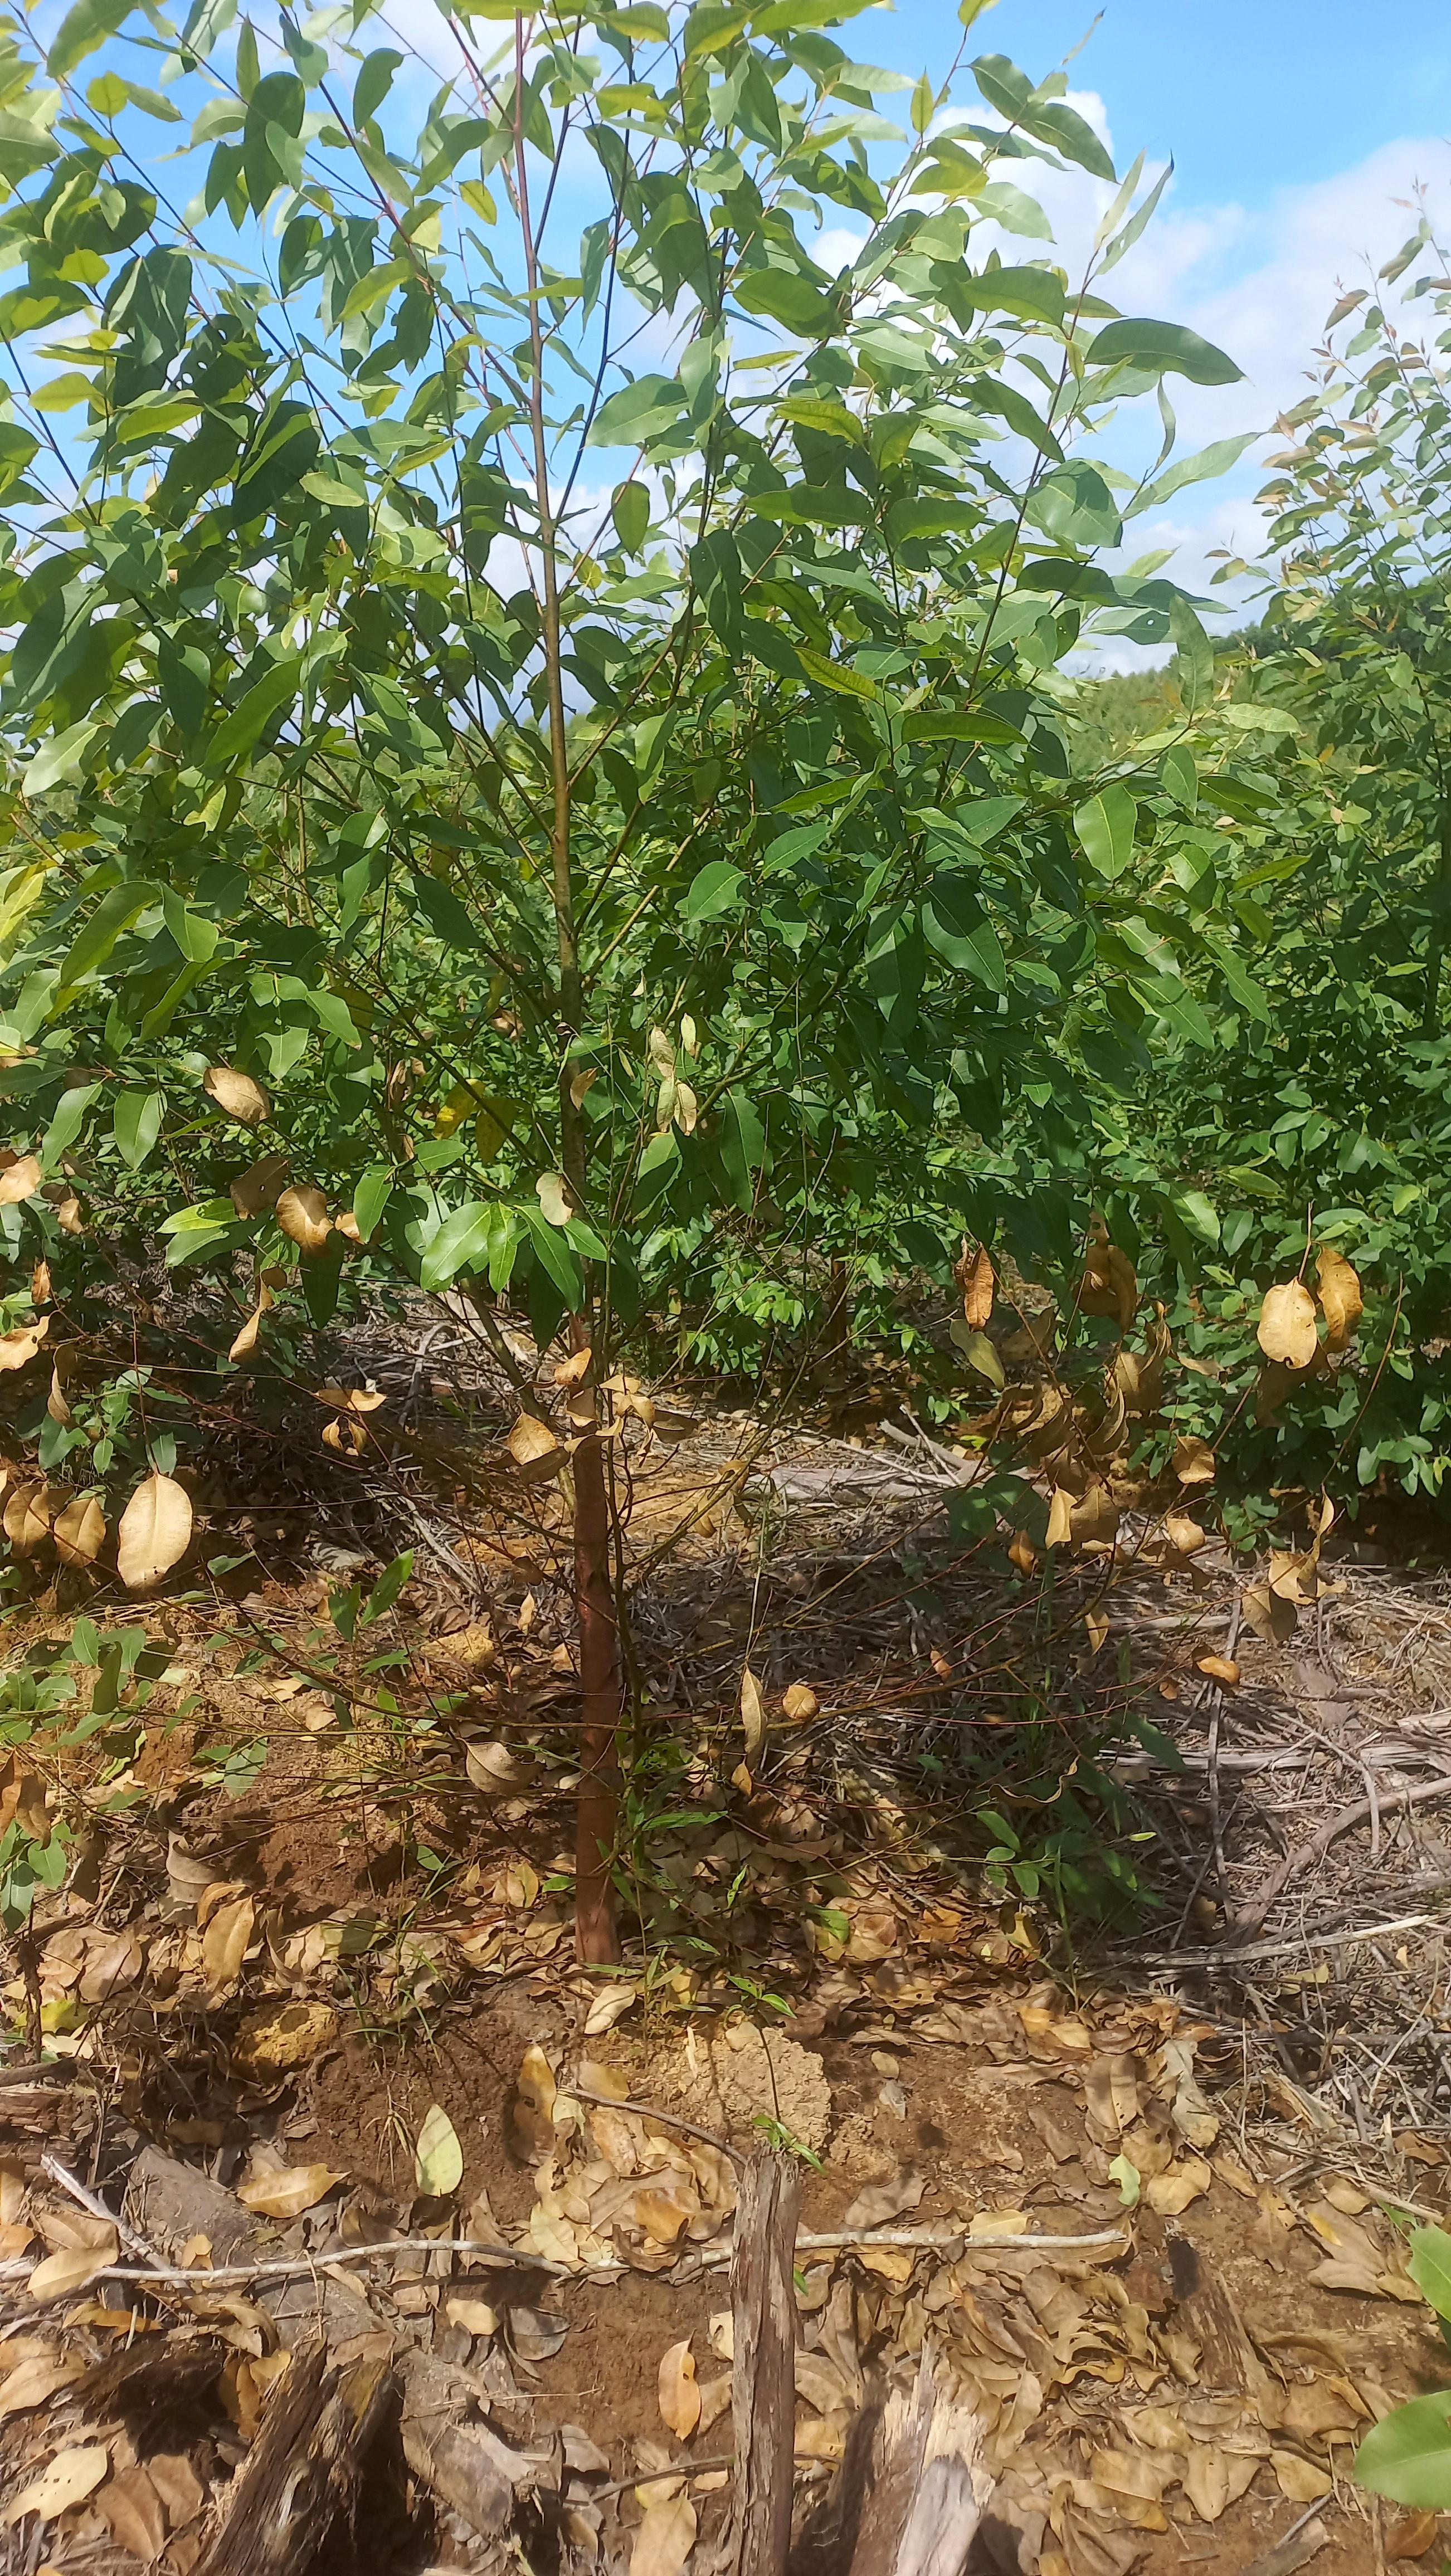Wither Tree Parts: (0, 1007, 437, 1649), (917, 1189, 1389, 1686), (494, 1297, 710, 1495)
